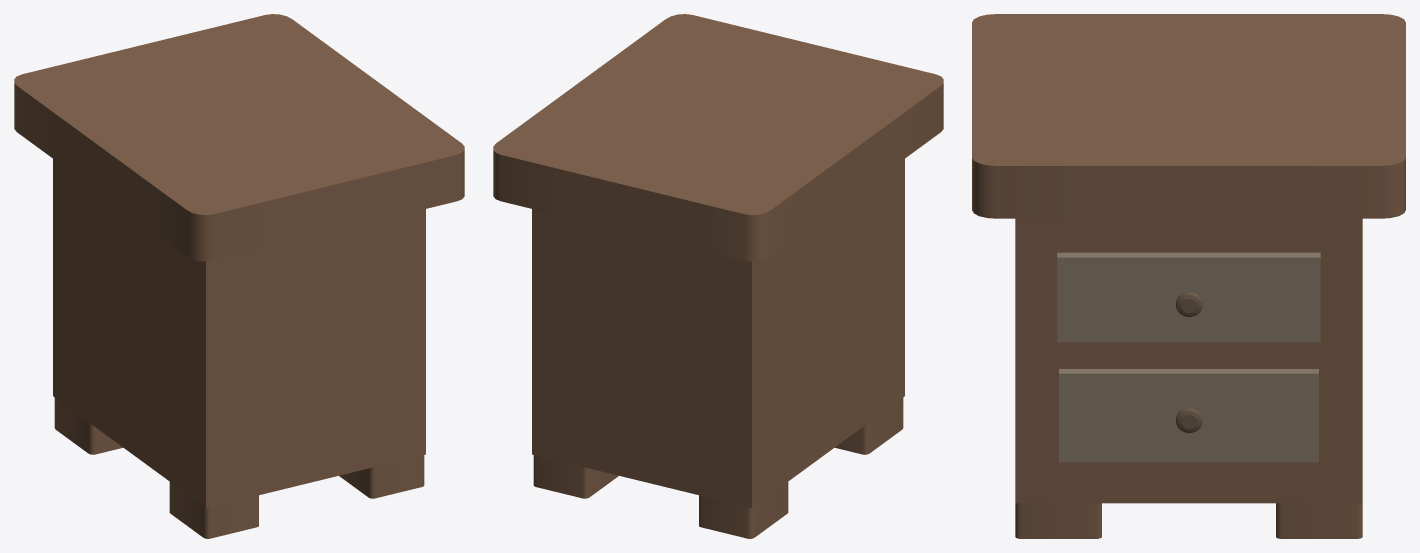
The model's file is Cabinet2.fbx.
The picture shows the model from 3 angles, left to right: view 1: azimuth 30°, elevation 25°; view 2: azimuth 150°, elevation 25°; view 3: azimuth 270°, elevation 25°; orthographic projection. The views are drawn at different scales.
Visible parts, largest first — view 1: Cube.003; view 2: Cube.003; view 3: Cube.003, Cube.004, Cylinder.001.
Part boxes in pixels (<box>): Cube.003: <box>14,14,464,538</box>; Cube.003: <box>493,14,943,538</box>; Cube.003: <box>972,14,1405,538</box>; Cube.004: <box>1057,252,1320,462</box>; Cylinder.001: <box>1176,292,1202,432</box>.
Size of the model in its own units: 200 by 238 by 241.
